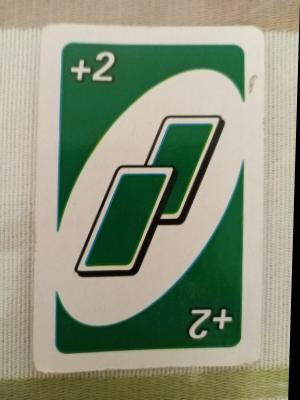-2: (66, 43, 124, 87), (188, 307, 237, 345)
green: (54, 41, 247, 352)
